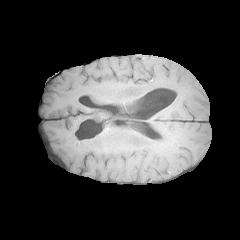glioma: (71, 108, 112, 151)
